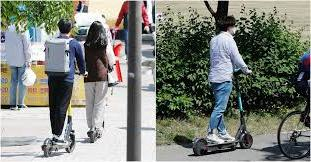nonhelmet: (191, 15, 254, 155), (40, 17, 89, 158)
